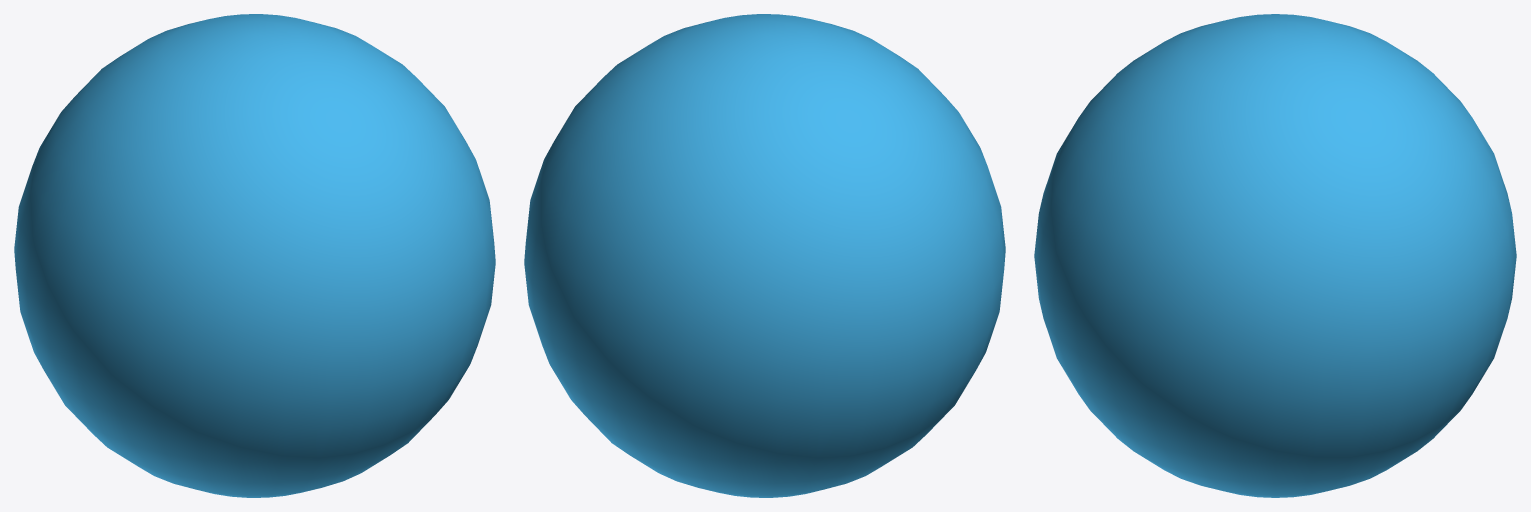
Rendered from Skin_Green_000.fbx.
3 views of the same model, side by side, from view 1: azimuth 30°, elevation 25°; view 2: azimuth 150°, elevation 25°; view 3: azimuth 270°, elevation 25° (orthographic).
Visible parts, largest first — view 1: Ball_Skin_Sphere_G_000; view 2: Ball_Skin_Sphere_G_000; view 3: Ball_Skin_Sphere_G_000.
Boxes of the visible parts, x1,y1,x2,y2 form: Ball_Skin_Sphere_G_000: (14, 14, 495, 497); Ball_Skin_Sphere_G_000: (524, 14, 1005, 497); Ball_Skin_Sphere_G_000: (1034, 14, 1516, 497).
Bounding box in the file's own units: 0.9904 × 1 × 0.9904.
